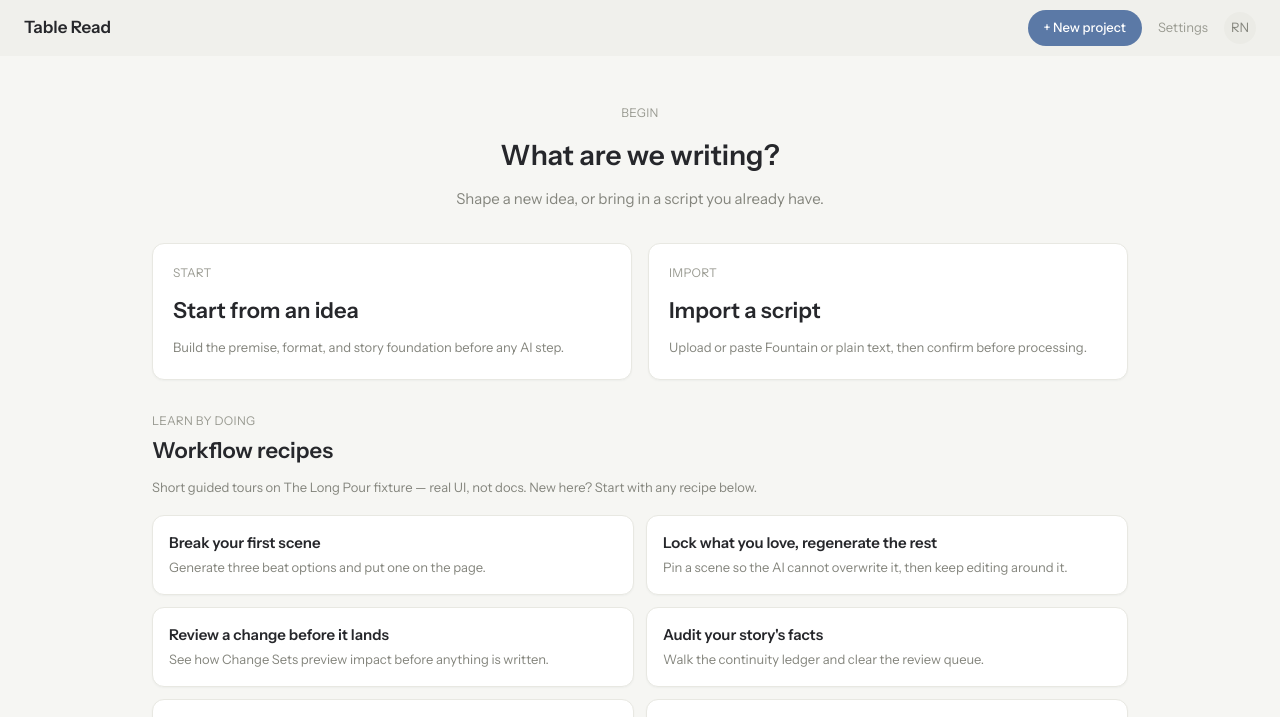
Test: DashboardScreen › opens the top-right new-project path chooser
Step 1. Click the button "+ New project" → (1085, 28), box [1028,10,1142,46]
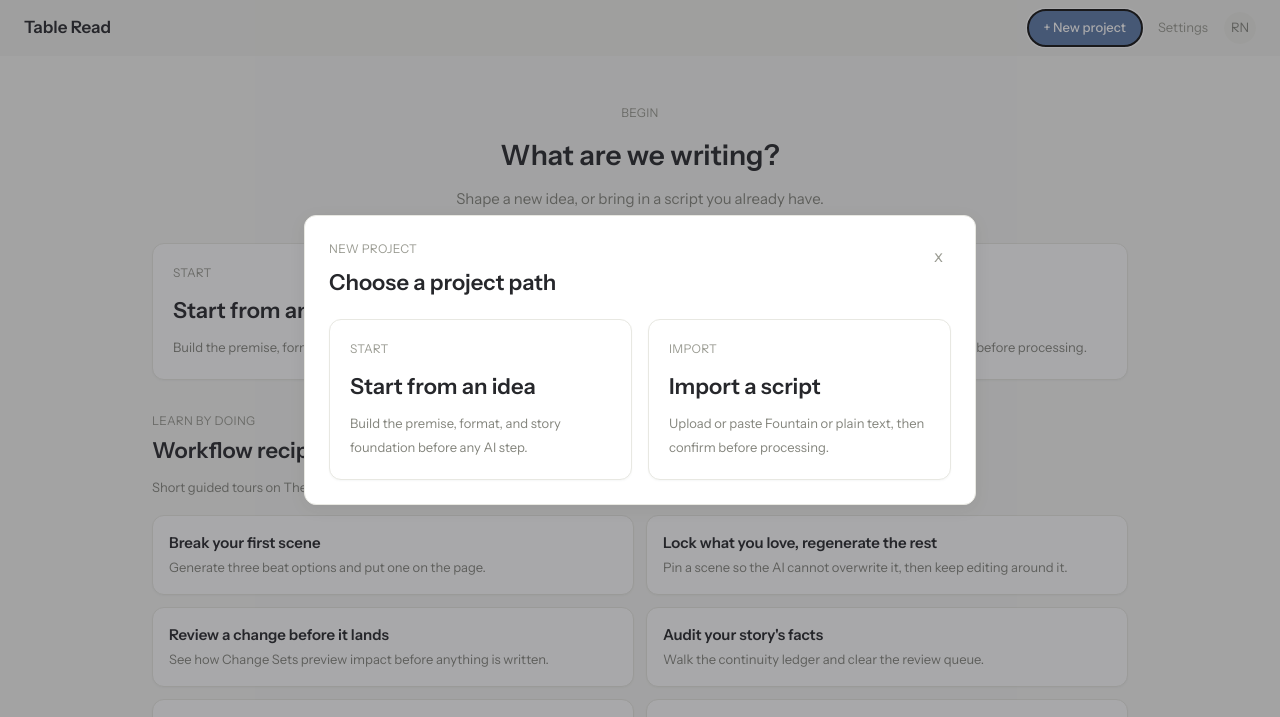
Result: the dialog "Choose a project path" is shown at [304,215,976,505]
